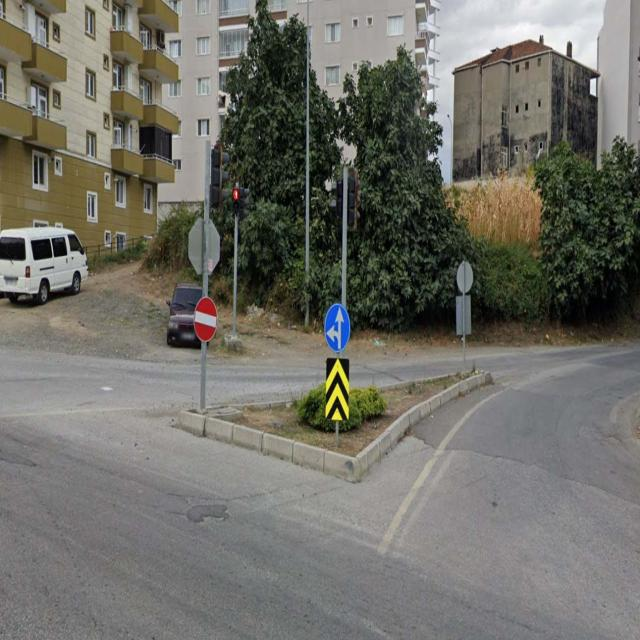girisyok: (194, 297, 218, 342)
ilerisol: (325, 303, 350, 351)
